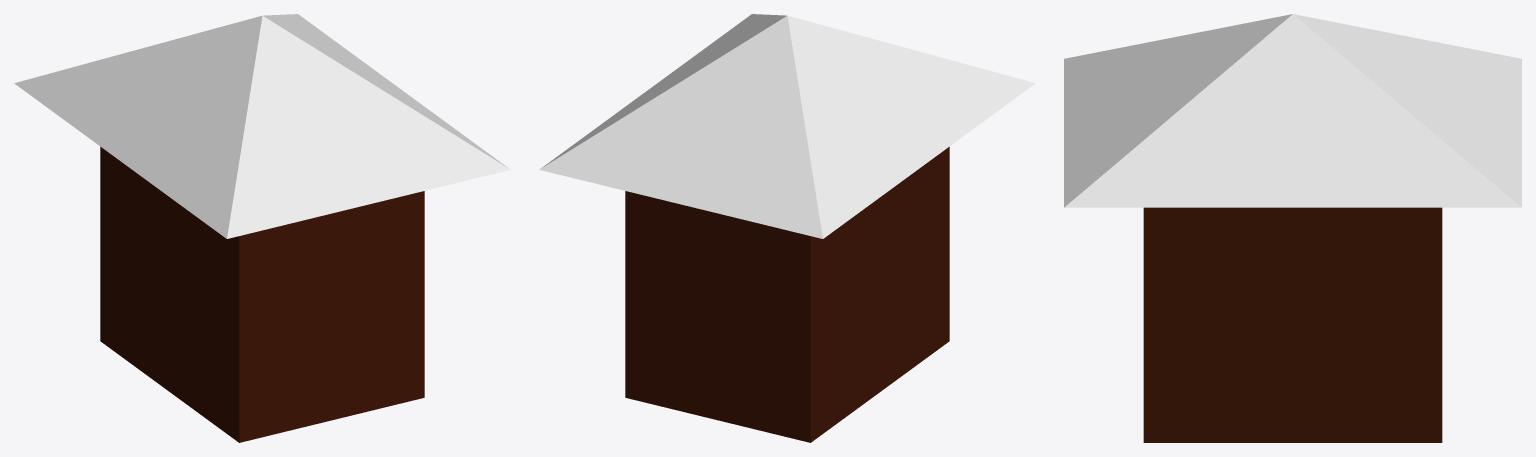
Rendered from OniHouseNoCam.fbx.
3 renders of one model, left to right at view 1: azimuth 30°, elevation 25°; view 2: azimuth 150°, elevation 25°; view 3: azimuth 270°, elevation 25°, orthographic. The views are drawn at different scales.
Visible parts, largest first — view 1: Cube; view 2: Cube; view 3: Cube.
Part boxes in pixels (bbox=[...]): Cube: bbox=[14, 14, 510, 442]; Cube: bbox=[539, 14, 1035, 442]; Cube: bbox=[1064, 14, 1521, 442].
Size of the model in its own units: 196 by 234 by 255.
